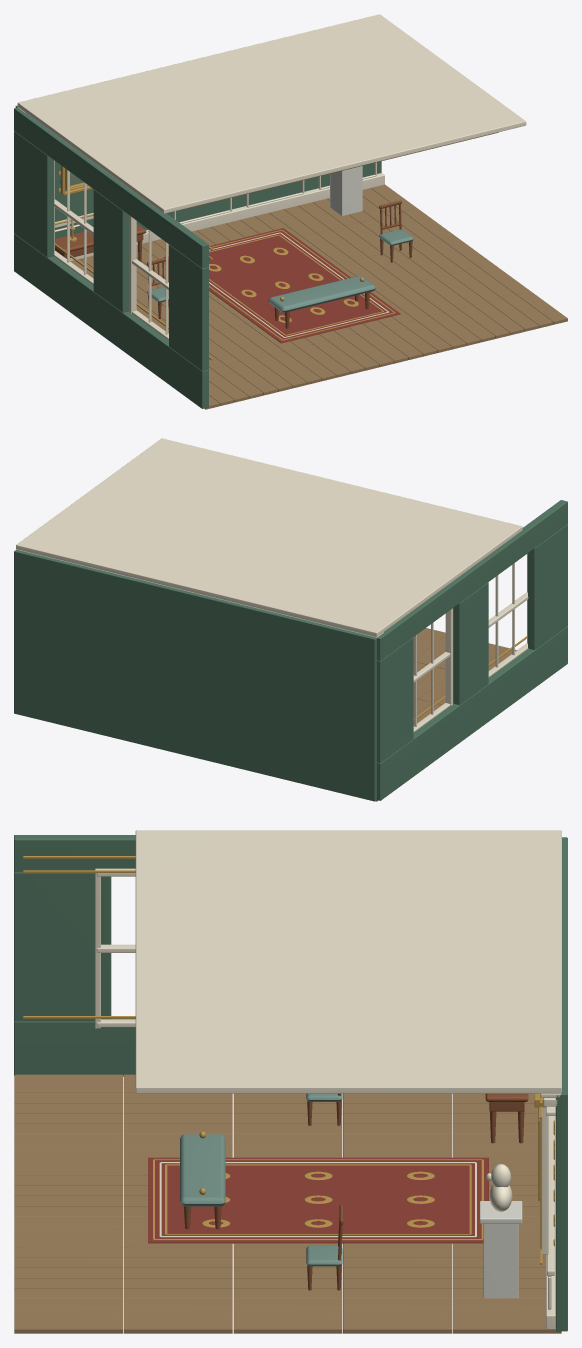
The model's file is gallery.glb.
The picture shows the model from 3 angles, top to bottom: view 1: azimuth 30°, elevation 25°; view 2: azimuth 150°, elevation 25°; view 3: azimuth 270°, elevation 25°; orthographic projection. The views are drawn at different scales.
Visible parts, largest first — view 1: Plaster ceiling, Woven carpet, Left wall sill, Left wall lintel, Left wall pier.002, Left wall pier, Left wall pier.001, Back wall, Back moulding, Gallery bench, Sculpture pedestal, Window casing.001 (+48 smaller); view 2: Back wall, Plaster ceiling, Left wall sill, Left wall lintel, Left wall pier, Left wall pier.002, Left wall pier.001, Window casing.002; view 3: Plaster ceiling, Woven carpet, Left wall pier, Left wall sill, Back wall, Left wall lintel, Gallery bench, Sculpture pedestal, Individual oak floorboard.120, Individual oak floorboard.122, Individual oak floorboard.121, Individual oak floorboard.123 (+85 smaller).
Part boxes in pixels (left/top/right/bottom): Plaster ceiling: left=17, top=14, right=526, bottom=213; Woven carpet: left=164, top=228, right=400, bottom=343; Left wall sill: left=14, top=233, right=208, bottom=408; Left wall lintel: left=14, top=107, right=208, bottom=268; Left wall pier.002: left=14, top=131, right=54, bottom=257; Left wall pier: left=169, top=244, right=208, bottom=370; Left wall pier.001: left=93, top=189, right=129, bottom=312; Back wall: left=15, top=105, right=381, bottom=238; Back moulding: left=70, top=173, right=384, bottom=261; Gallery bench: left=268, top=276, right=375, bottom=312; Sculpture pedestal: left=330, top=166, right=362, bottom=215; Window casing.001: left=129, top=215, right=136, bottom=313; Back wall: left=14, top=549, right=376, bottom=801; Plaster ceiling: left=16, top=438, right=522, bottom=636; Left wall sill: left=377, top=626, right=567, bottom=800; Left wall lintel: left=377, top=500, right=567, bottom=660; Left wall pier: left=528, top=524, right=567, bottom=649; Left wall pier.002: left=377, top=637, right=413, bottom=762; Left wall pier.001: left=453, top=582, right=488, bottom=704; Window casing.002: left=445, top=608, right=453, bottom=705; Plaster ceiling: left=135, top=830, right=561, bottom=1093; Woven carpet: left=148, top=1157, right=488, bottom=1243; Left wall pier: left=14, top=872, right=111, bottom=1021; Left wall sill: left=14, top=1018, right=135, bottom=1076; Back wall: left=555, top=837, right=567, bottom=1331; Left wall lintel: left=14, top=835, right=135, bottom=872; Gallery bench: left=180, top=1134, right=225, bottom=1206; Sculpture pedestal: left=483, top=1224, right=518, bottom=1298; Individual oak floorboard.120: left=14, top=1319, right=123, bottom=1333; Individual oak floorboard.122: left=233, top=1319, right=342, bottom=1333; Individual oak floorboard.121: left=124, top=1319, right=232, bottom=1333; Individual oak floorboard.123: left=343, top=1319, right=451, bottom=1333.
Size of the model in its own units: 10.1 by 4.47 by 9.1.
